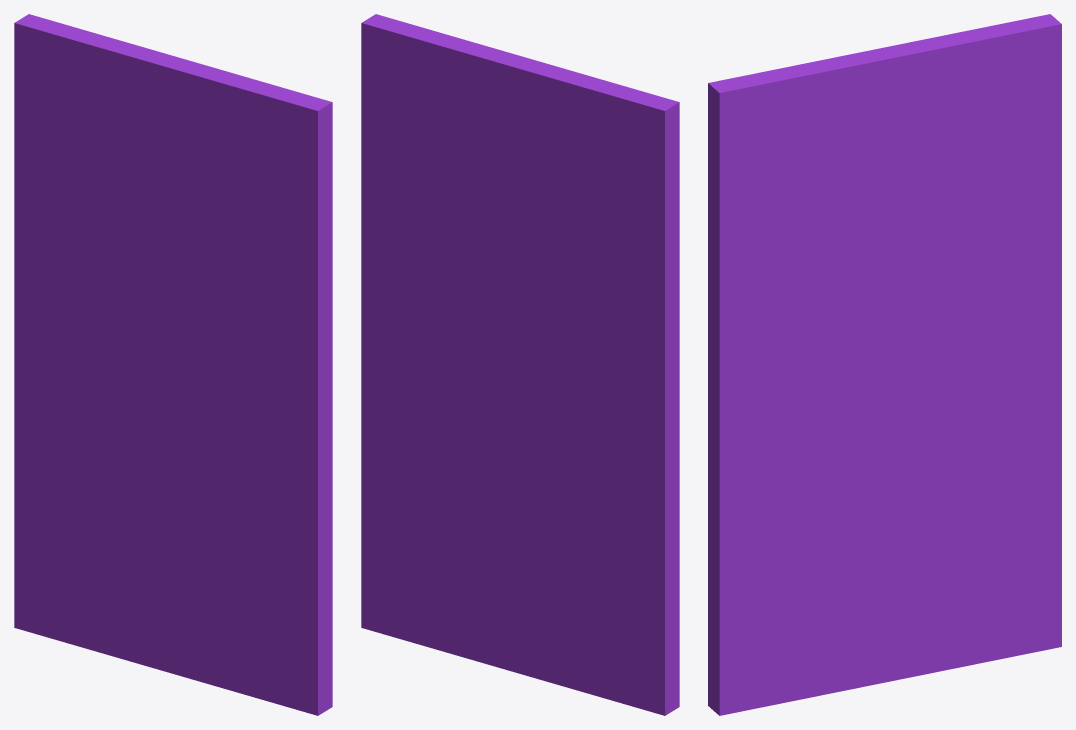
Rendered from Glass_31.fbx.
The picture shows the model from 3 angles, left to right: view 1: azimuth 30°, elevation 25°; view 2: azimuth 210°, elevation 25°; view 3: azimuth 270°, elevation 25°; orthographic projection. The views are drawn at different scales.
Visible parts, largest first — view 1: Glass_31; view 2: Glass_31; view 3: Glass_31.
Boxes of the visible parts, <box> form: Glass_31: <box>14,14,332,715</box>; Glass_31: <box>361,14,679,715</box>; Glass_31: <box>708,14,1061,715</box>.
Size of the model in its own units: 192 by 706 by 363.
